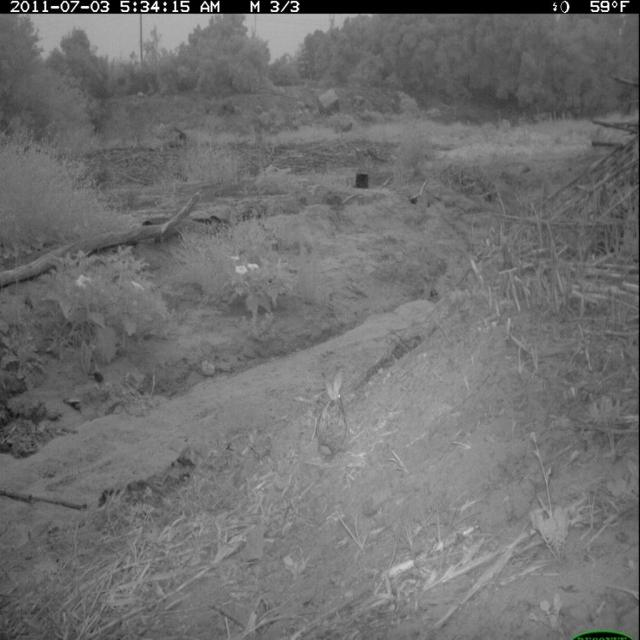rabbit: (313, 363, 350, 463)
